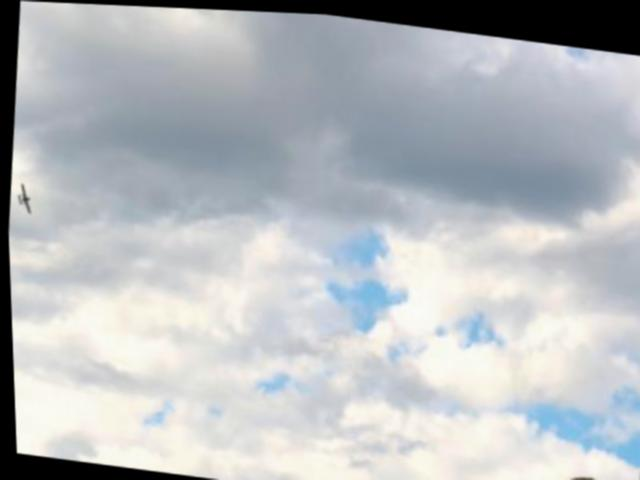uav: (14, 176, 31, 218)
